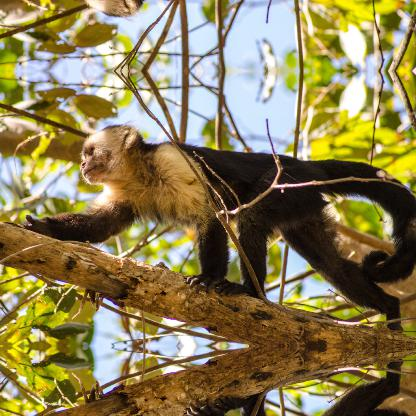Monkey: (25, 122, 416, 332), (24, 358, 415, 415)
